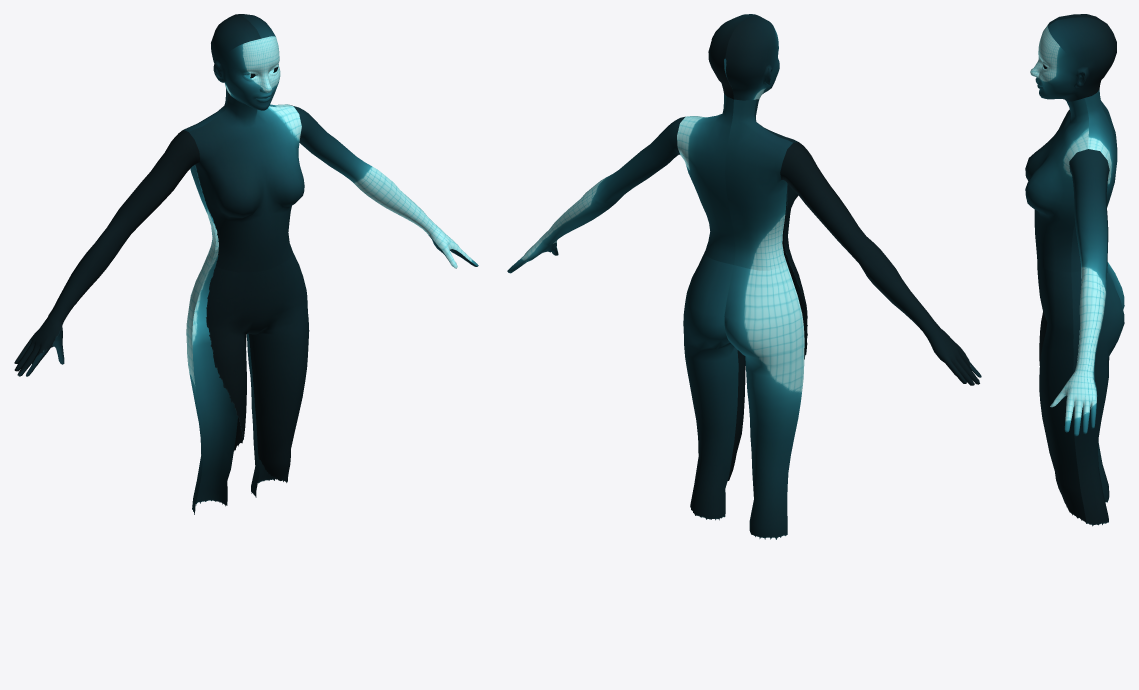
Rendered from Sims_Female.fbx.
The picture shows the model from 3 angles, left to right: view 1: azimuth 30°, elevation 25°; view 2: azimuth 150°, elevation 25°; view 3: azimuth 270°, elevation 25°; orthographic projection. The views are drawn at different scales.
Parts seen in each view (by area): view 1: top_geom.002; view 2: top_geom.002; view 3: top_geom.002.
Part boxes in pixels (box(x1,y1,x2,y2)): top_geom.002: box(14, 14, 478, 514); top_geom.002: box(507, 14, 981, 539); top_geom.002: box(1025, 14, 1124, 526).
Size of the model in its own units: 144 by 187 by 30.16.
